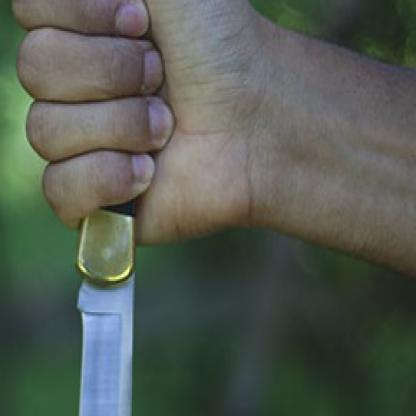knife: (3, 22, 181, 414)
